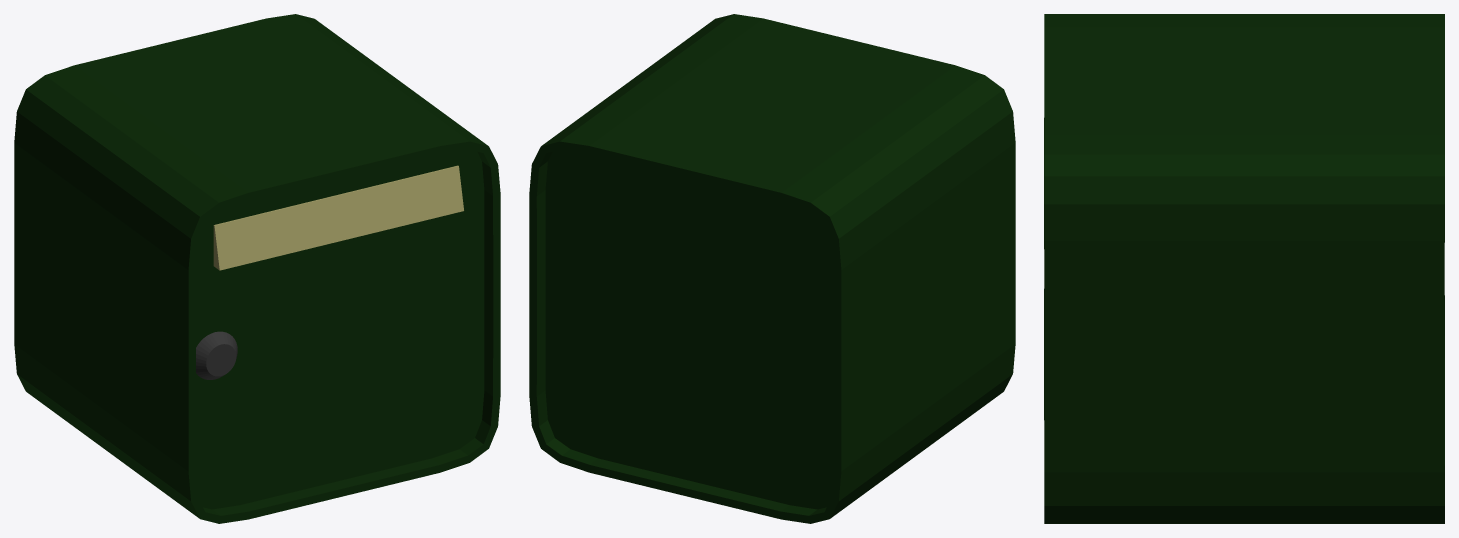
The model's file is boiteALettre.obj.
3 renders of one model, left to right at view 1: azimuth 30°, elevation 25°; view 2: azimuth 150°, elevation 25°; view 3: azimuth 270°, elevation 25°, orthographic. The views are drawn at different scales.
Visible parts, largest first — view 1: Plane, Plane.001_Plane.002, Cube_Cube.004; view 2: Plane; view 3: Plane.
Part boxes in pixels (left/top/right/bottom): Plane: left=14, top=14, right=500, bottom=523; Plane.001_Plane.002: left=196, top=149, right=484, bottom=509; Cube_Cube.004: left=213, top=165, right=463, bottom=270; Plane: left=529, top=14, right=1015, bottom=523; Plane: left=1044, top=14, right=1444, bottom=523.
Size of the model in its own units: 2.07 by 2.07 by 2.
